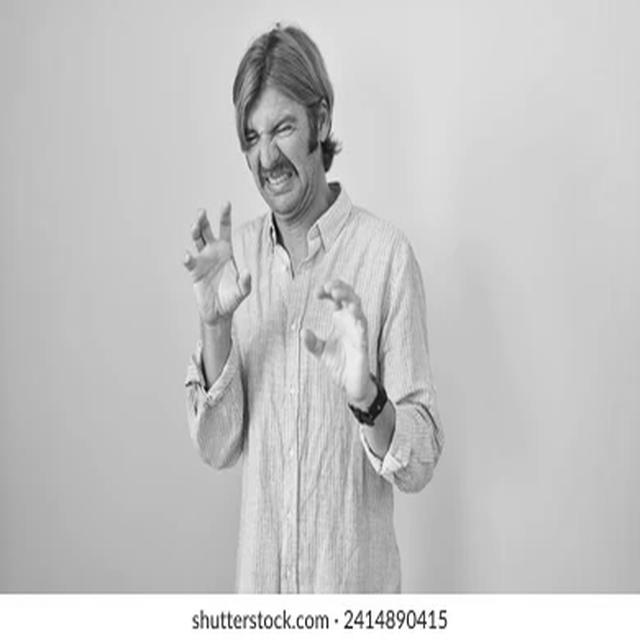Disgust: (241, 80, 317, 214)
